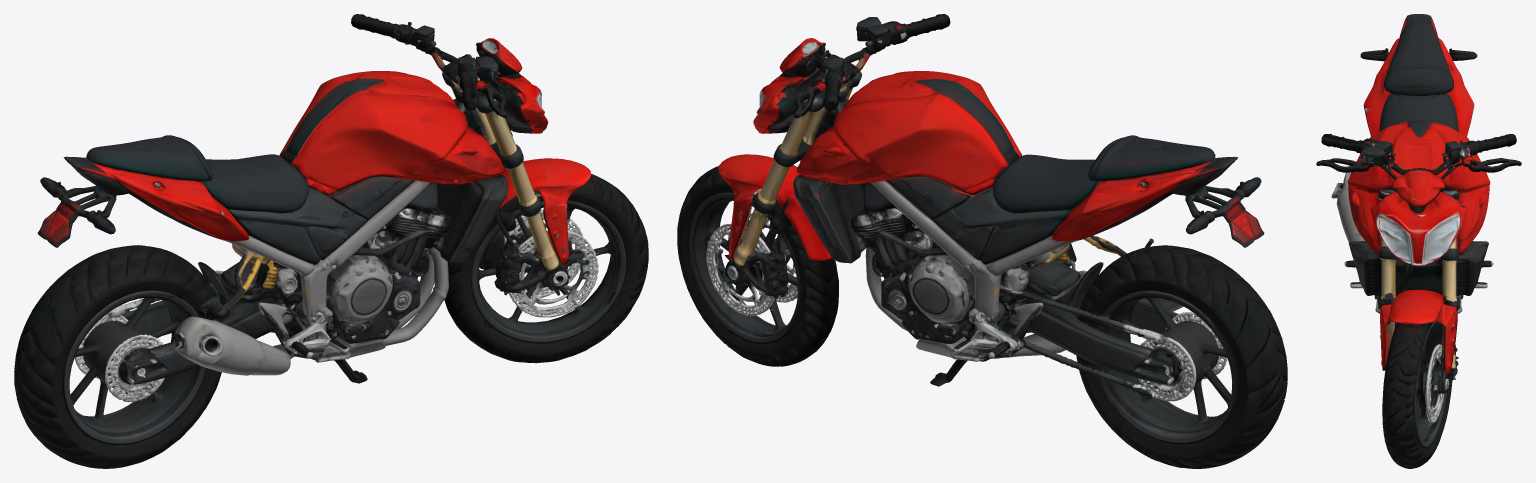
File: bike-high.f6b25152.glb
3 renders of one model, left to right at view 1: azimuth 30°, elevation 25°; view 2: azimuth 150°, elevation 25°; view 3: azimuth 270°, elevation 25°, orthographic. The views are drawn at different scales.
Parts seen in each view (by area): view 1: trim_dark (×36), body_paint (×9), chrome_trim (×3), headlight_lens (×2); view 2: trim_dark (×34), body_paint (×9), chrome_trim (×2), headlight_lens; view 3: trim_dark (×17), body_paint (×10), headlight_lens (×2), chrome_trim.
Part boxes in pixels (x1=…): trim_dark (×36): x1=14, y1=14, x2=648, y2=468; body_paint (×9): x1=63, y1=56, x2=591, y2=265; chrome_trim (×3): x1=105, y1=308, x2=348, y2=402; headlight_lens (×2): x1=495, y1=210, x2=598, y2=317; trim_dark (×34): x1=677, y1=14, x2=1287, y2=468; body_paint (×9): x1=718, y1=68, x2=1237, y2=271; chrome_trim (×2): x1=953, y1=308, x2=1196, y2=401; headlight_lens: x1=706, y1=223, x2=774, y2=315; trim_dark (×17): x1=1316, y1=21, x2=1521, y2=468; body_paint (×10): x1=1347, y1=14, x2=1490, y2=373; headlight_lens (×2): x1=1423, y1=218, x2=1457, y2=422; chrome_trim: x1=1338, y1=191, x2=1355, y2=242.
Bounding box in the file's own units: 2.02 × 1.07 × 0.7142.
Materials: 102 (102 with a texture image).
